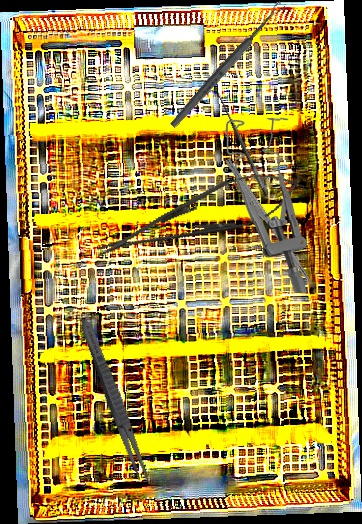Dressing Forceps: (75, 315, 156, 489)
Hook Surgical: (223, 157, 327, 305), (205, 84, 270, 201)
Needle Holder: (88, 156, 311, 276)
Speculum: (224, 116, 310, 296)
Surgical Spoon: (168, 0, 287, 130)
